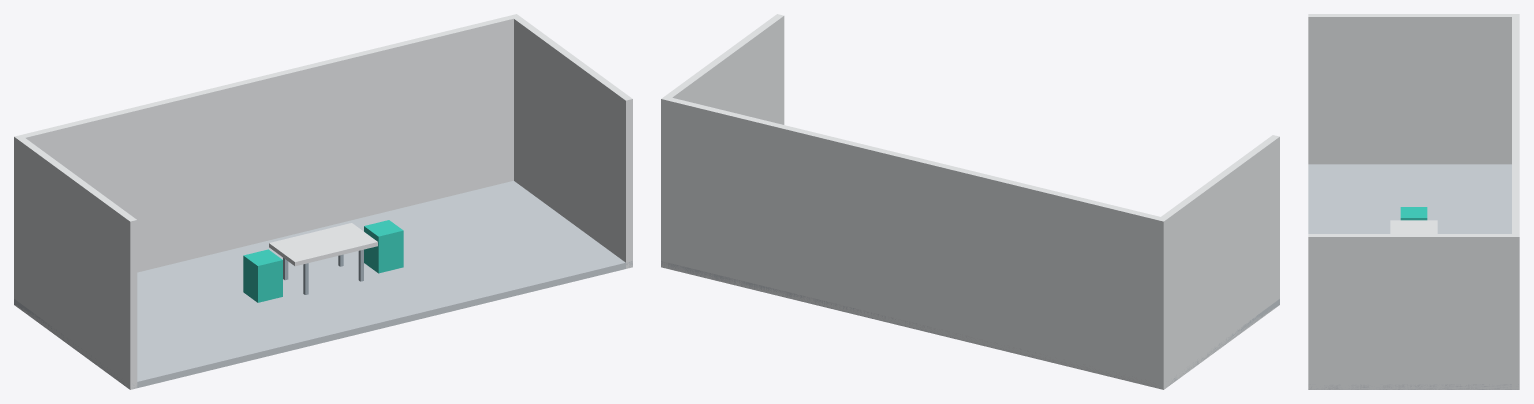
The picture shows the model from 3 angles, left to right: view 1: azimuth 30°, elevation 25°; view 2: azimuth 150°, elevation 25°; view 3: azimuth 270°, elevation 25°; orthographic projection. The views are drawn at different scales.
Parts seen in each view (by area): view 1: Exhibition Booth Concept; view 2: Exhibition Booth Concept; view 3: Exhibition Booth Concept.
Boxes of the visible parts, x1=… form: Exhibition Booth Concept: x1=14, y1=14, x2=632, y2=389; Exhibition Booth Concept: x1=661, y1=14, x2=1279, y2=389; Exhibition Booth Concept: x1=1308, y1=14, x2=1519, y2=389.
Bounding box in the file's own units: 10 × 3.2 × 4.
